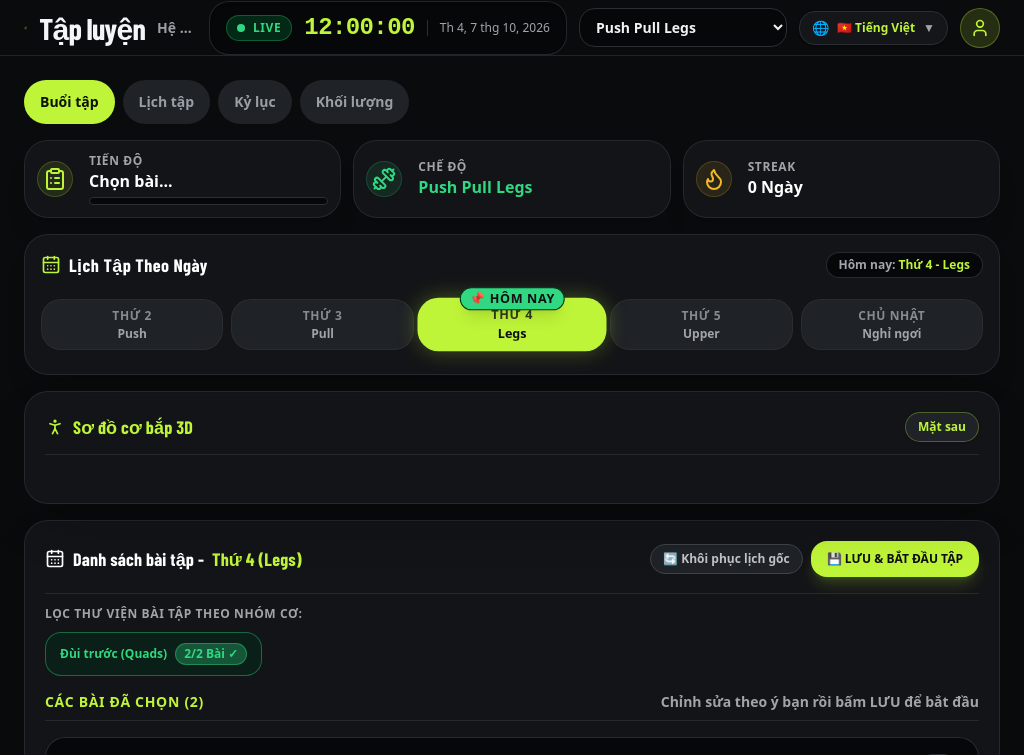
Test: Workouts: loading the plan › a rest day shows the rest message and an empty list
Click the button "Chủ nhật Nghỉ ngơi" at point(892, 324), box 801,299 -> 983,350
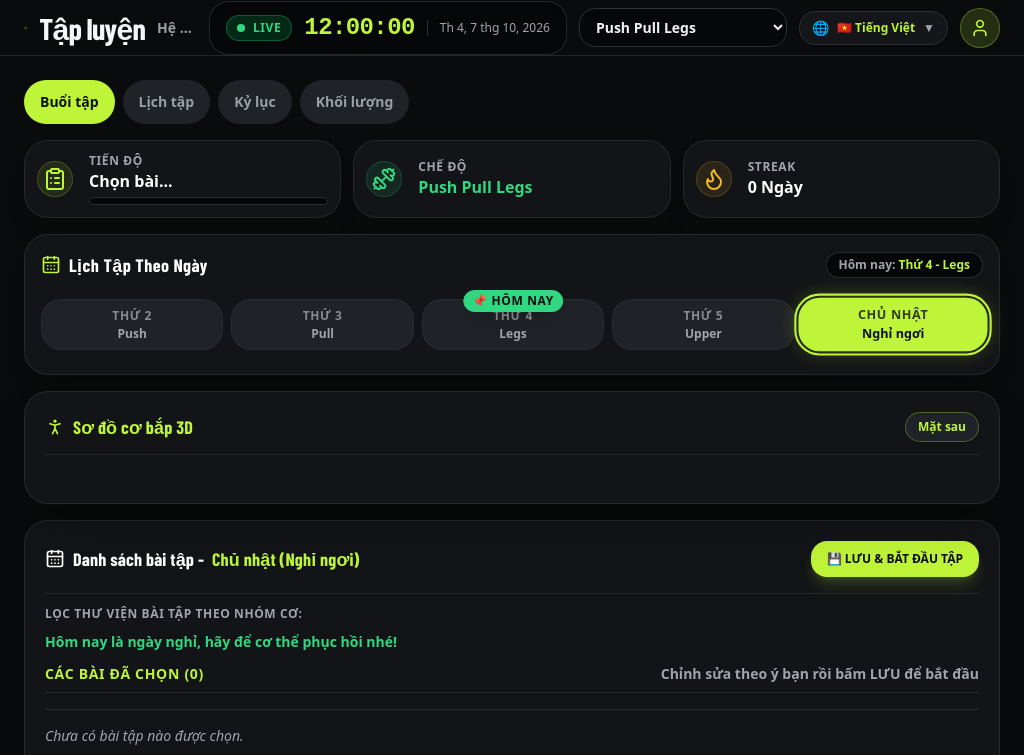
Check: the text "Hôm nay là ngày nghỉ, hãy để cơ thể phục hồi nhé!" is shown, box 45,632 -> 397,651
